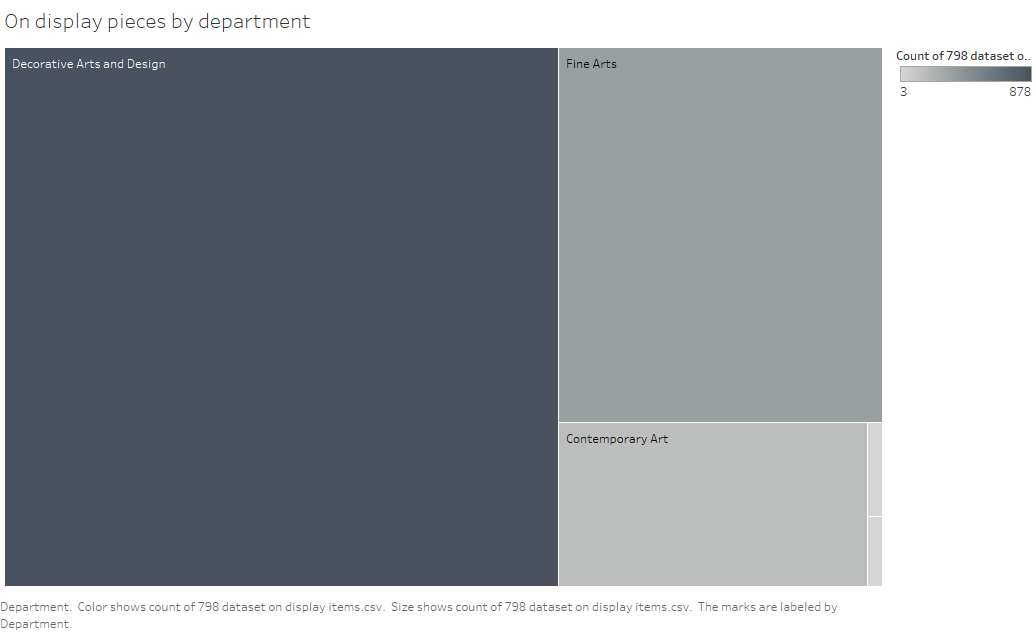

Layout of this report page (visuals, bound fields, positions):
{"tool":"tableau","page":{"name":"Dashboard 1","canvas":[1000,800],"ordinal":0},"visuals":[{"type":"worksheet","title":"Sheet 2","mark":"Automatic","rows":["798!data!only!not!on!view!rows_52761707DF0A46CA932B8A59ADC1F"],"cols":["date_acquired"],"box":[8,8,984,784]}]}

Visuals, with their boxes on the page's 1000x800 design canvas (x1, y1, x2, y2). These are canvas units, not pixel positions in the 1036x632 screenshot, which may show the page scaled, cropped or inside an application window:
"Sheet 2" worksheet: region(8, 8, 992, 792)
